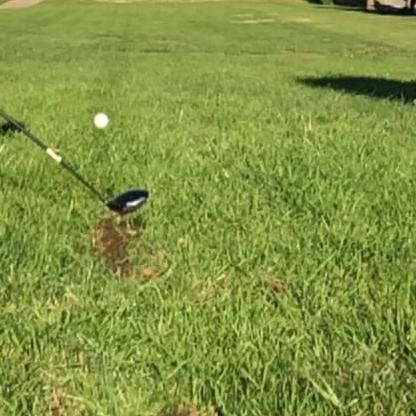golfball: (91, 110, 108, 127)
